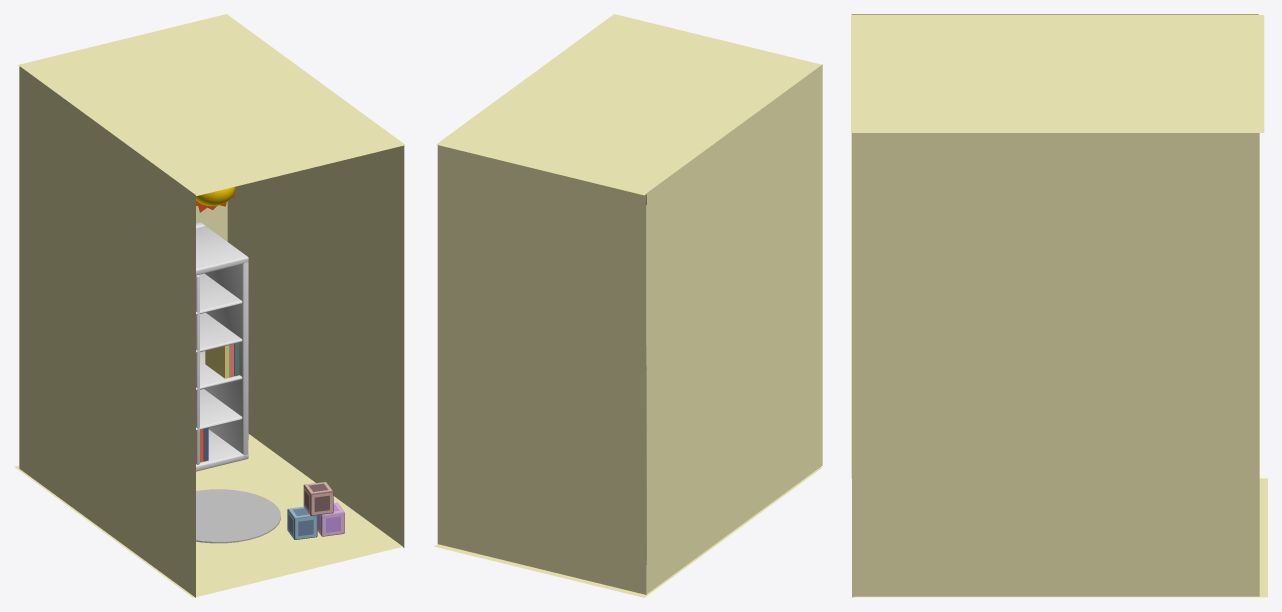
Rendered from PlayRoom 1.fbx.
The picture shows the model from 3 angles, left to right: view 1: azimuth 30°, elevation 25°; view 2: azimuth 150°, elevation 25°; view 3: azimuth 270°, elevation 25°; orthographic projection. The views are drawn at different scales.
Parts seen in each view (by area): view 1: WallL, WallR, Ceiling, Floor, ToyShelf, Rug, WallB, Toy cube, Toy cube.001, Toy cube.002, Book.005; view 2: WallB, WallL, Ceiling, Floor; view 3: WallR, Ceiling, Floor, WallL.
Boxes of the visible parts, <box> form: WallL: <box>19,66,195,597</box>; WallR: <box>227,145,404,547</box>; Ceiling: <box>17,14,405,195</box>; Floor: <box>14,434,402,597</box>; ToyShelf: <box>196,222,248,471</box>; Rug: <box>196,489,280,543</box>; WallB: <box>19,67,227,468</box>; Toy cube: <box>303,482,333,515</box>; Toy cube.001: <box>287,506,317,539</box>; Toy cube.002: <box>317,502,344,536</box>; Book.005: <box>205,345,229,378</box>; WallB: <box>437,145,646,594</box>; WallL: <box>647,64,822,593</box>; Ceiling: <box>436,14,821,195</box>; Floor: <box>434,467,822,597</box>; WallR: <box>852,133,1259,597</box>; Ceiling: <box>851,15,1264,132</box>; Floor: <box>855,478,1267,597</box>; WallL: <box>851,14,1258,478</box>.
Size of the model in its own units: 676 by 1237 by 1002.
